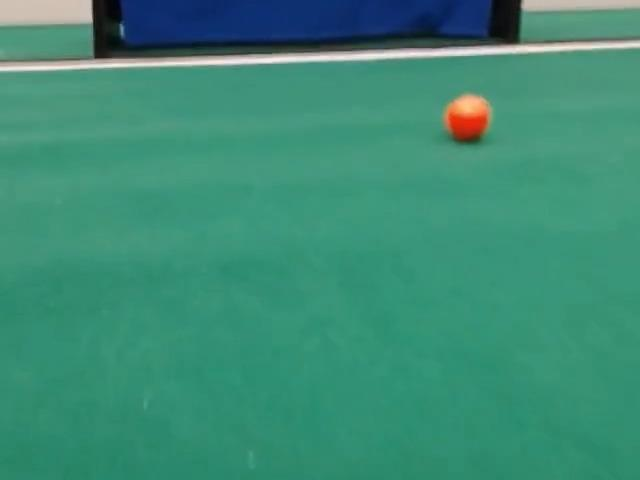Ball: (444, 94, 491, 142)
